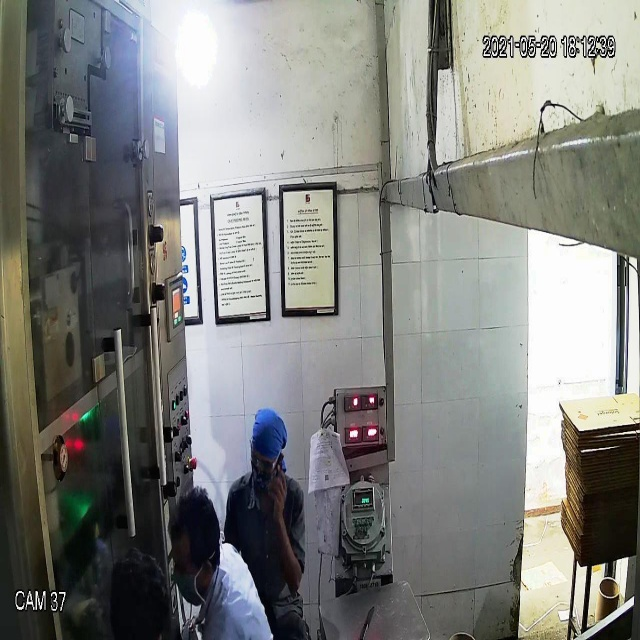Gafas: (246, 447, 282, 477)
